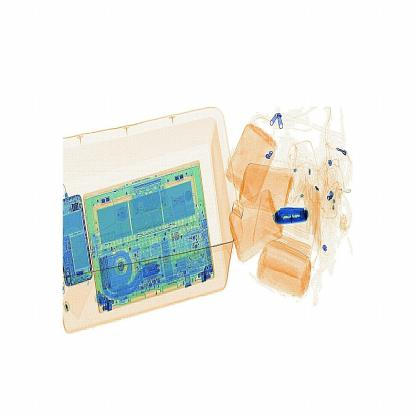scissors: (275, 204, 316, 229)
